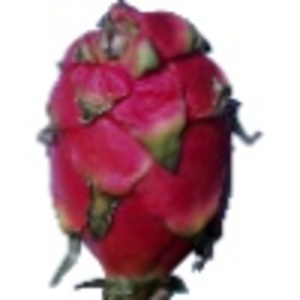pitaia: (38, 1, 264, 300)
